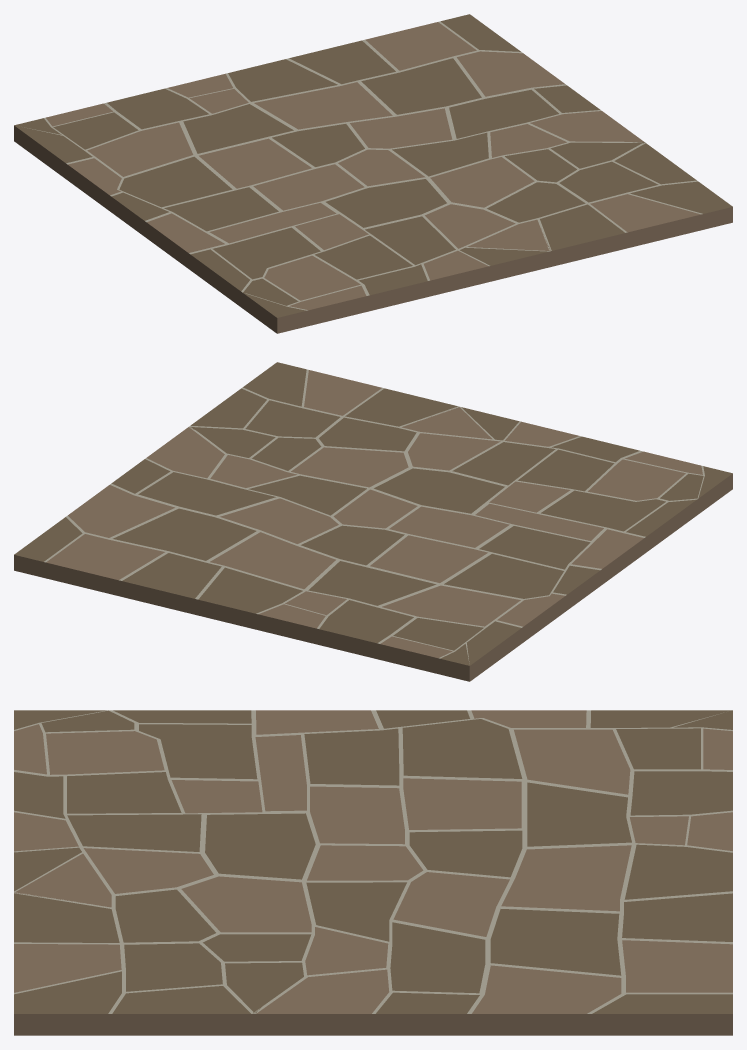
Rendered from victorian_floor_flagstone.fbx.
3 renders of one model, top to bottom at view 1: azimuth 30°, elevation 25°; view 2: azimuth 150°, elevation 25°; view 3: azimuth 270°, elevation 25°, orthographic. The views are drawn at different scales.
Visible parts, largest first — view 1: Plane.002; view 2: Plane.002; view 3: Plane.002.
Part boxes in pixels (x1,y1,x2,y2): Plane.002: (14, 14, 732, 333); Plane.002: (14, 362, 732, 681); Plane.002: (14, 710, 732, 1035).
Bounding box in the file's own units: 300 × 10 × 300.
